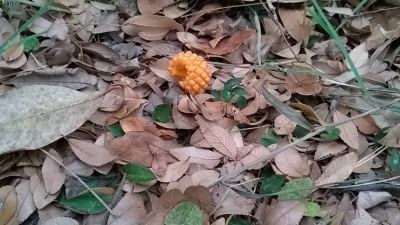eggs: (169, 50, 212, 93)
